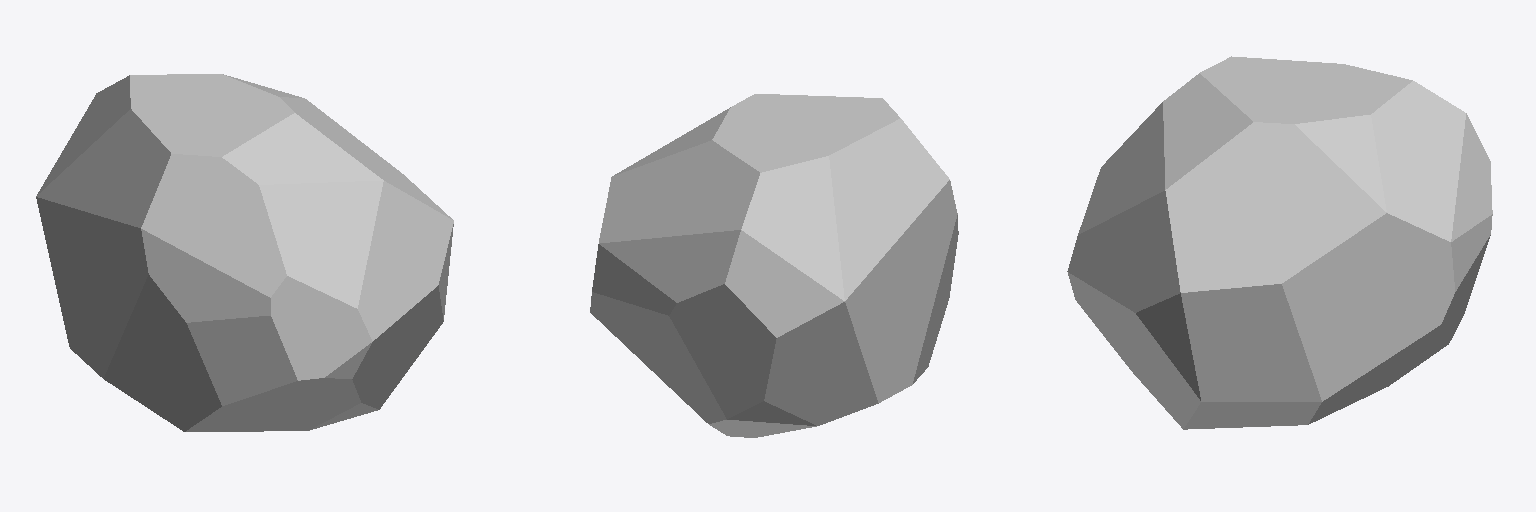
File: Rock_6.obj
3 views of the same model, side by side, from view 1: azimuth 30°, elevation 25°; view 2: azimuth 150°, elevation 25°; view 3: azimuth 270°, elevation 25° (orthographic).
Parts seen in each view (by area): view 1: Rock.012; view 2: Rock.012; view 3: Rock.012.
Boxes of the visible parts, x1,y1,x2,y2 form: Rock.012: [36, 74, 453, 431]; Rock.012: [590, 94, 958, 437]; Rock.012: [1067, 56, 1492, 429].
Size of the model in its own units: 1.26 by 1.18 by 1.56.